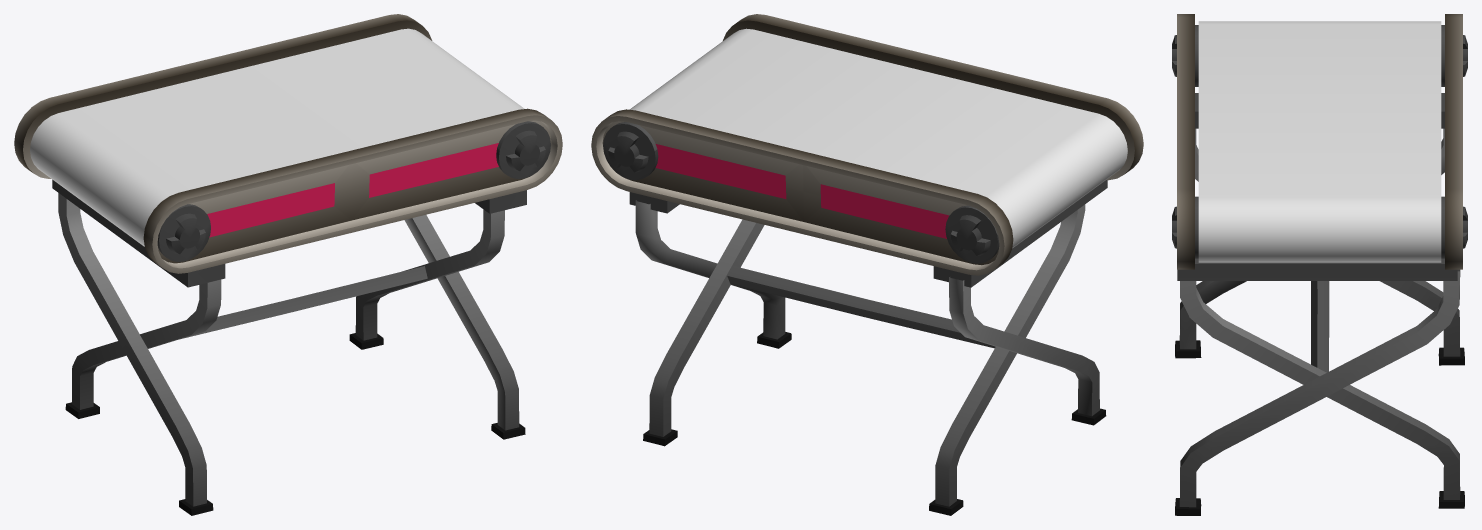
File: part_Convey_1.fbx
The picture shows the model from 3 angles, left to right: view 1: azimuth 30°, elevation 25°; view 2: azimuth 150°, elevation 25°; view 3: azimuth 270°, elevation 25°; orthographic projection. The views are drawn at different scales.
Parts seen in each view (by area): view 1: mesh_Convey_Frame, mesh_Convey_Belt, mesh_Rotator_R, mesh_Rotator_L; view 2: mesh_Convey_Frame, mesh_Convey_Belt, mesh_Rotator_R, mesh_Rotator_L; view 3: mesh_Convey_Belt, mesh_Convey_Frame, mesh_Rotator_R, mesh_Rotator_L.
Boxes of the visible parts, x1,y1,x2,y2 form: mesh_Convey_Frame: (14,14,562,515); mesh_Convey_Belt: (30,28,524,246); mesh_Rotator_R: (496,121,550,178); mesh_Rotator_L: (157,204,210,261); mesh_Convey_Frame: (591,14,1143,515); mesh_Convey_Belt: (630,28,1127,248); mesh_Rotator_R: (603,122,658,180); mesh_Rotator_L: (945,205,999,263); mesh_Convey_Belt: (1198,21,1441,262); mesh_Convey_Frame: (1175,14,1464,515); mesh_Rotator_R: (1172,196,1467,258); mesh_Rotator_L: (1172,25,1467,86).
Bounding box in the file's own units: 124 × 91.45 × 74.76.
